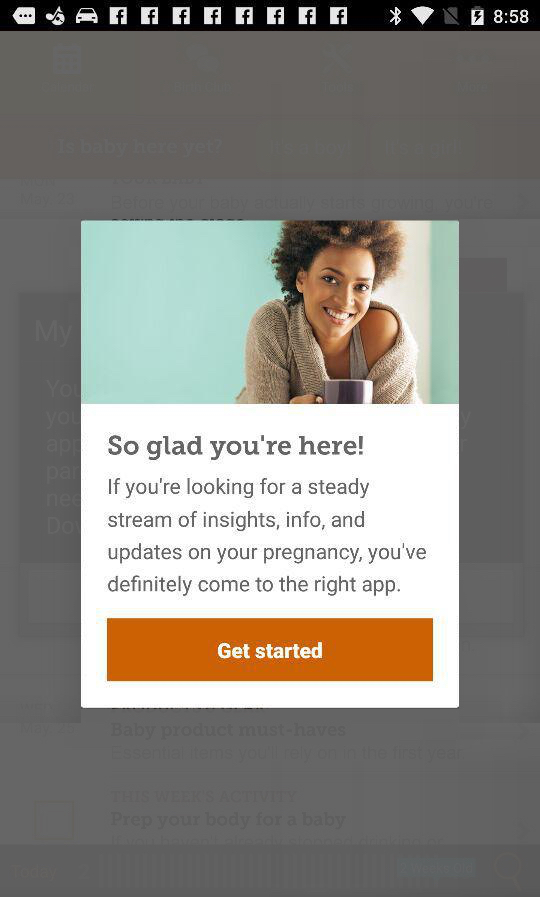Image: (82, 221, 459, 405)
Modal: (81, 221, 460, 709)
Text: (107, 477, 428, 598), (109, 434, 364, 462)
TextButton: (107, 617, 434, 682)
UpperTaskBar: (1, 1, 540, 33)
